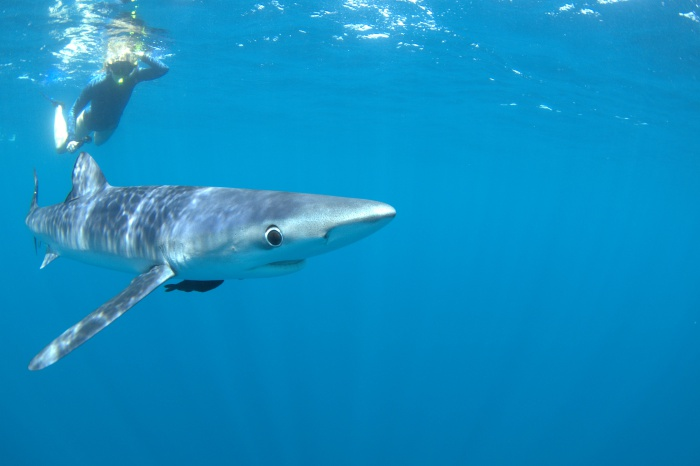Azul: (1, 155, 431, 372)
